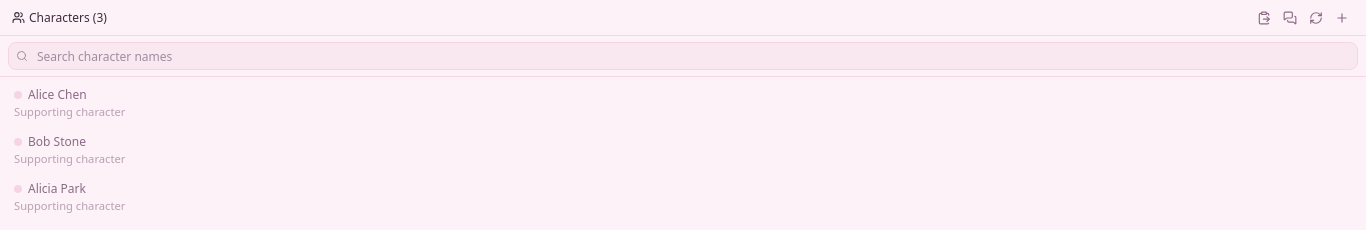
character list search › filters characters by a case-insensitive name fragment and restores the list when cleared
Type "ALI" into the field named "Search characters" at (683, 56), box [8,42,1358,70]
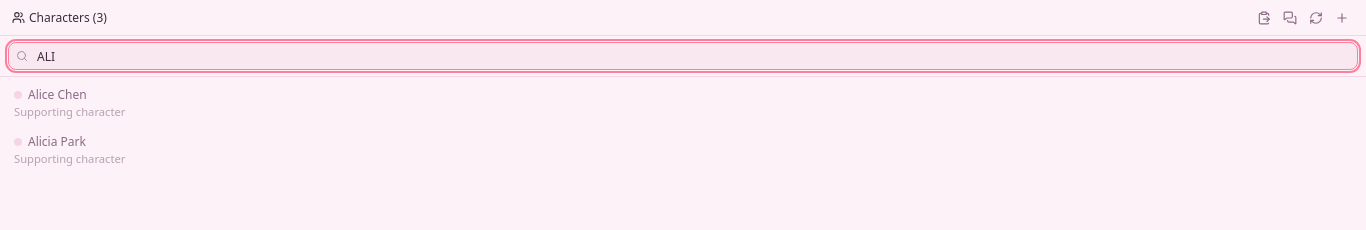
Expected: the text "Alice Chen" is shown, [14,86,87,103]
Result: the text "Bob Stone" is gone
Clear the field named "Search characters" at (683, 56), box [8,42,1358,70]
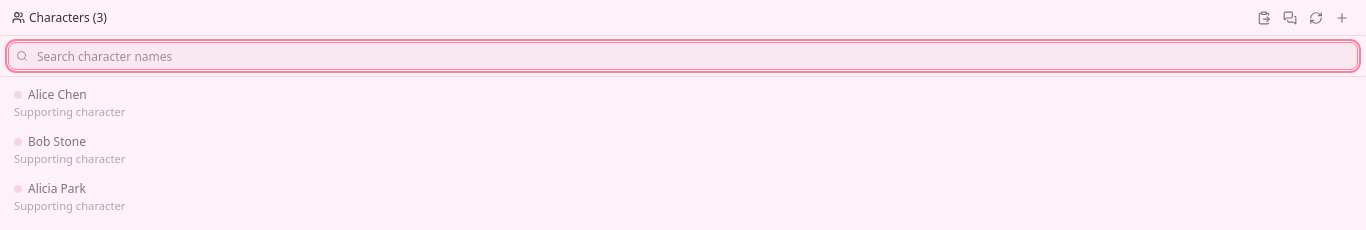
Result: the text "Bob Stone" is shown at [14,133,86,150]
